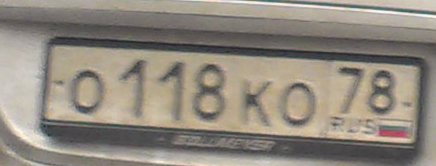character: (193, 61, 228, 124), (66, 66, 107, 115), (119, 54, 148, 122), (279, 81, 317, 129), (239, 78, 274, 130), (366, 63, 398, 118), (160, 58, 186, 123), (337, 64, 364, 116)
